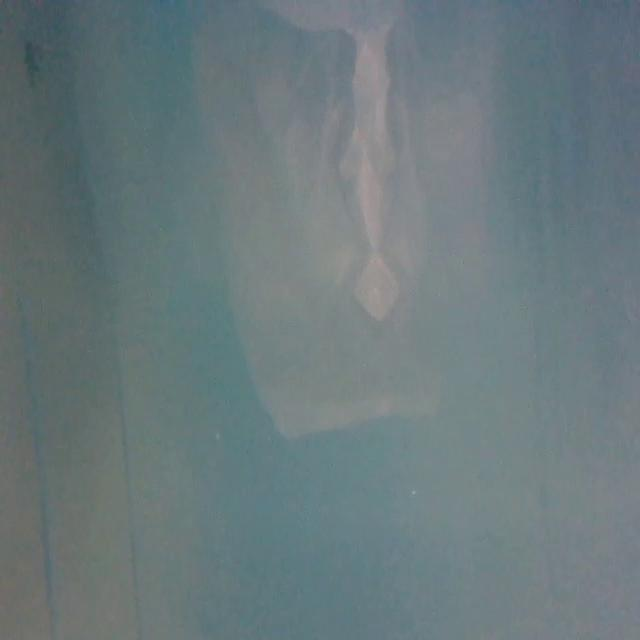plastic bags: (203, 6, 470, 428)
